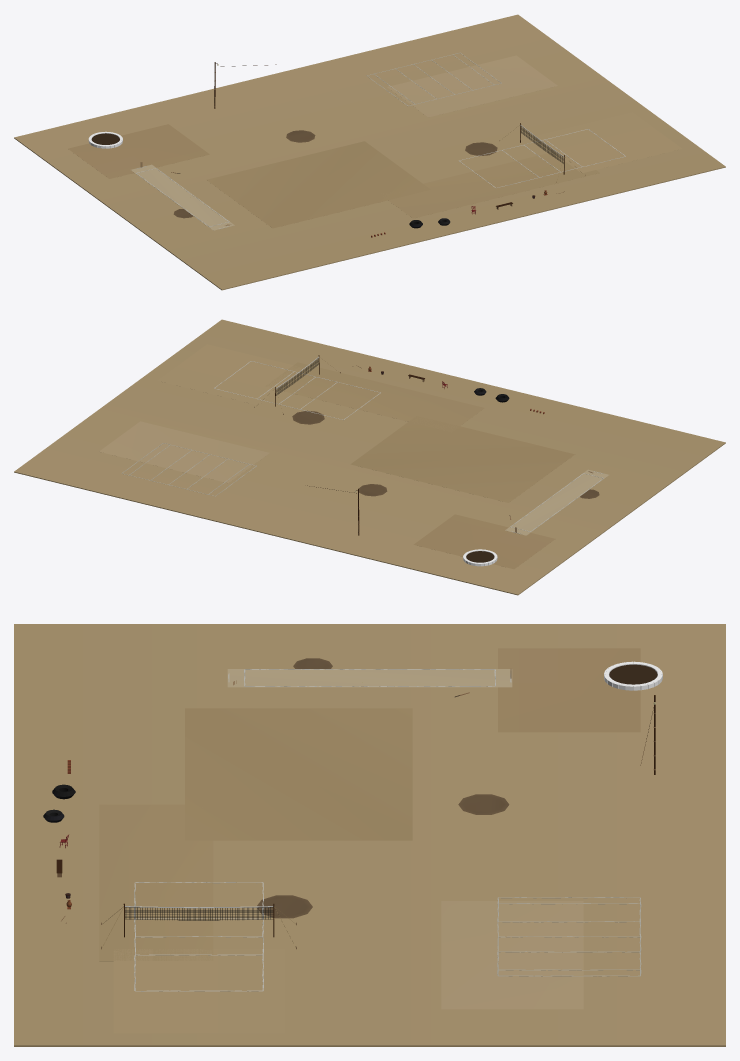
The model's file is khel_maidan_v2.glb.
3 views of the same model, one above another, from view 1: azimuth 30°, elevation 25°; view 2: azimuth 150°, elevation 25°; view 3: azimuth 270°, elevation 25° (orthographic). The views are drawn at different scales.
Parts seen in each view (by area): view 1: hb_main; view 2: hb_main; view 3: hb_main, decals, hb_brick.
Boxes of the visible parts, bbox=[...] form: hb_main: bbox=[14, 14, 725, 290]; hb_main: bbox=[14, 319, 725, 595]; hb_main: bbox=[14, 624, 725, 1046]; decals: bbox=[125, 907, 272, 920]; hb_brick: bbox=[67, 661, 662, 909].
Bounding box in the file's own units: 70 × 6.28 × 50.
Materials: 5 (1 with a texture image).
